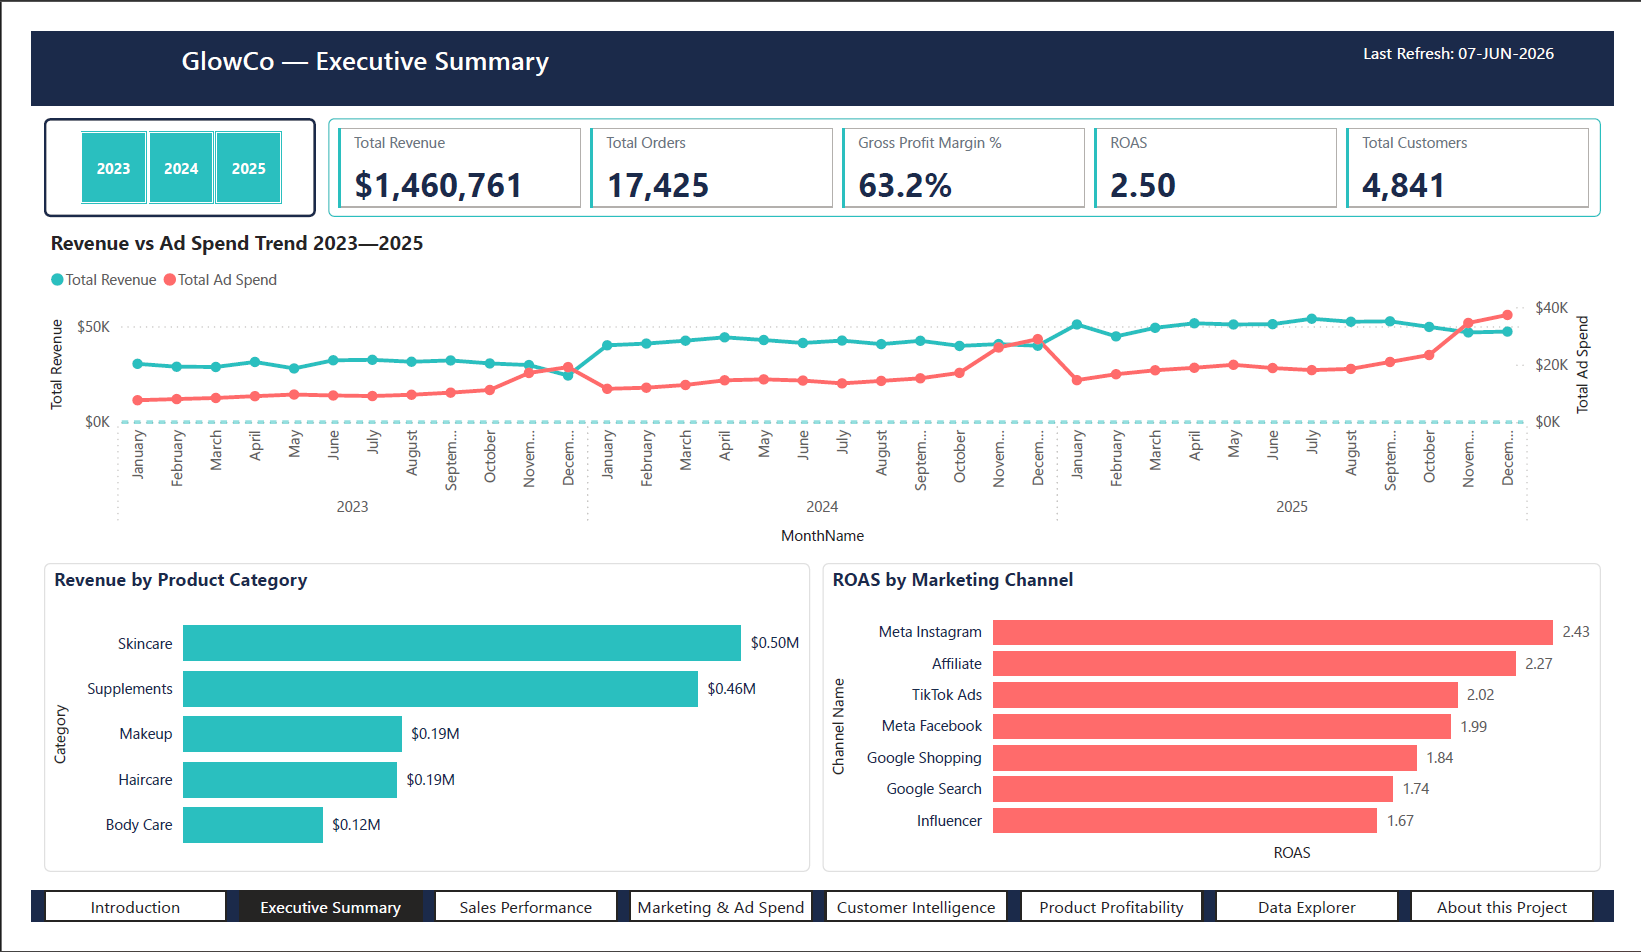

Layout of this report page (visuals, bound fields, positions):
{"tool":"powerbi","page":{"name":"Executive Summary","canvas":[1280,720],"ordinal":1},"visuals":[{"type":"shape","box":[0,695,1280,25],"z":0},{"type":"lineChart","title":"Revenue vs Ad Spend Trend 2023—2025","fields":{"Y":["_Measures.Total Revenue"],"Y2":["_Measures.Total Ad Spend"],"Category":["dim_Date.Year","dim_Date.MonthName"]},"box":[10,160,1260,260],"z":1000},{"type":"clusteredBarChart","title":"Revenue by Product Category","fields":{"Category":["dim_Products.Category"],"Y":["_Measures.Total Revenue"]},"box":[10,430,620,250],"z":2000},{"type":"clusteredBarChart","title":"ROAS by Marketing Channel","fields":{"Y":["_Measures.ROAS"],"Category":["dim_Channels.ChannelName"]},"box":[640,430,630,250],"z":3000},{"type":"slicer","fields":{"Values":["dim_Date.Year"]},"box":[10,70,220,80],"z":4000},{"type":"shape","box":[0,0,1280,60],"z":5000},{"type":"textbox","box":[20,3.3,500,40],"z":6000},{"type":"textbox","box":[1050,3.3,210,40],"z":7000},{"type":"cardVisual","fields":{"Data":["_Measures.Total Revenue","_Measures.Total Orders","_Measures.Gross Profit Margin %","_Measures.ROAS","_Measures.Total Customers"]},"box":[240,70,1030,80],"z":8000},{"type":"pageNavigator","box":[10,695,1260,25],"z":9000}]}

Visuals, with their boxes on the page's 1280x720 design canvas (x1, y1, x2, y2). These are canvas units, not pixel positions in the 1641x952 screenshot, which may show the page scaled, cropped or inside an application window:
shape: [0, 695, 1280, 720]
"Revenue vs Ad Spend Trend 2023—2025" lineChart: [10, 160, 1270, 420]
"Revenue by Product Category" clusteredBarChart: [10, 430, 630, 680]
"ROAS by Marketing Channel" clusteredBarChart: [640, 430, 1270, 680]
slicer - dim_Date.Year: [10, 70, 230, 150]
shape: [0, 0, 1280, 60]
textbox: [20, 3, 520, 43]
textbox: [1050, 3, 1260, 43]
cardVisual - _Measures.Total Revenue x _Measures.Total Orders: [240, 70, 1270, 150]
pageNavigator: [10, 695, 1270, 720]
